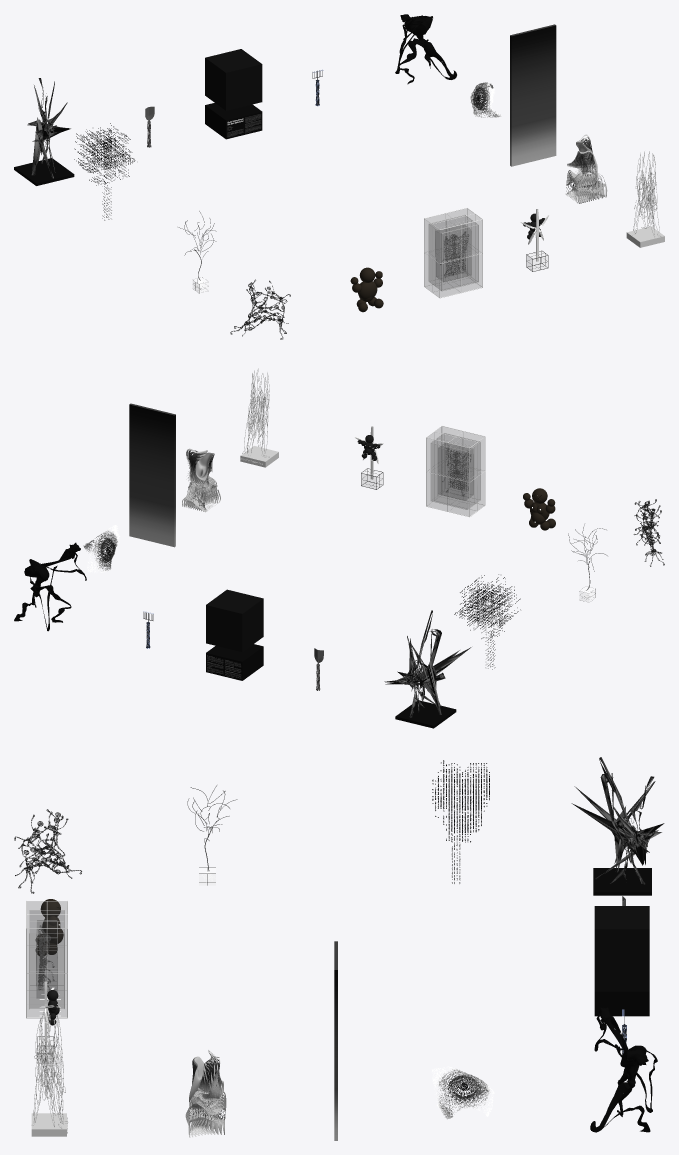
3 renders of one model, top to bottom at view 1: azimuth 30°, elevation 25°; view 2: azimuth 150°, elevation 25°; view 3: azimuth 270°, elevation 25°, orthographic. The views are drawn at different scales.
Visible parts, largest first — view 1: Mesh_4002_2, 2002-BLVKK, Mesh_2002, Mesh_0029, Mesh_4002_1, LEGEND-BLCK, Mesh_1064_1, CROOKEDASWEFUNASYU-BLCK, Mesh_1081, MYSTIC-BRED002, Mesh_2036, Mesh_1081_1 (+2 smaller); view 2: 2002-BLVKK, Mesh_4002_2, Mesh_2002, LEGEND-BLCK, Mesh_0029, Mesh_4002_1, Mesh_1064_1, CROOKEDASWEFUNASYU-BLCK, MYSTIC-BRED002, Mesh_1081, Mesh_2036, MONO2 (+2 smaller); view 3: Mesh_4002_2, LEGEND-BLCK, Mesh_2002, Mesh_0029, Mesh_4002_1, CROOKEDASWEFUNASYU-BLCK, Mesh_2036, MONO2, Mesh_1081, Mesh_1064_1, Mesh_1081_1, MYSTIC-BRED002 (+1 smaller).
Boxes of the visible parts, left/top/right/bottom form: Mesh_4002_2: left=102, top=144, right=664, bottom=339; 2002-BLVKK: left=510, top=24, right=556, bottom=166; Mesh_2002: left=424, top=208, right=482, bottom=297; Mesh_0029: left=205, top=49, right=262, bottom=110; Mesh_4002_1: left=429, top=216, right=477, bottom=289; LEGEND-BLCK: left=14, top=78, right=74, bottom=185; Mesh_1064_1: left=74, top=123, right=135, bottom=185; CROOKEDASWEFUNASYU-BLCK: left=395, top=14, right=456, bottom=84; Mesh_1081: left=565, top=134, right=607, bottom=203; MYSTIC-BRED002: left=435, top=224, right=471, bottom=282; Mesh_2036: left=205, top=103, right=262, bottom=139; Mesh_1081_1: left=565, top=141, right=605, bottom=194; 2002-BLVKK: left=129, top=403, right=175, bottom=547; Mesh_4002_2: left=240, top=368, right=664, bottom=669; Mesh_2002: left=426, top=426, right=484, bottom=515; LEGEND-BLCK: left=384, top=610, right=471, bottom=728; Mesh_0029: left=206, top=589, right=263, bottom=652; Mesh_4002_1: left=431, top=434, right=479, bottom=508; Mesh_1064_1: left=454, top=574, right=520, bottom=638; CROOKEDASWEFUNASYU-BLCK: left=14, top=542, right=86, bottom=631; MYSTIC-BRED002: left=438, top=442, right=473, bottom=500; Mesh_1081: left=182, top=448, right=220, bottom=511; Mesh_2036: left=206, top=644, right=263, bottom=680; MONO2: left=83, top=525, right=119, bottom=572; Mesh_4002_2: left=14, top=784, right=460, bottom=1136; LEGEND-BLCK: left=571, top=757, right=664, bottom=895; Mesh_2002: left=27, top=901, right=66, bottom=1017; Mesh_0029: left=594, top=906, right=649, bottom=978; Mesh_4002_1: left=30, top=911, right=63, bottom=1007; CROOKEDASWEFUNASYU-BLCK: left=590, top=1007, right=657, bottom=1132; Mesh_2036: left=594, top=979, right=649, bottom=1016; MONO2: left=432, top=1066, right=494, bottom=1119; Mesh_1081: left=185, top=1050, right=226, bottom=1137; Mesh_1064_1: left=432, top=760, right=489, bottom=842; Mesh_1081_1: left=189, top=1050, right=225, bottom=1124; MYSTIC-BRED002: left=36, top=920, right=57, bottom=998.
Bounding box in the file's own units: 41.36 × 12.05 × 41.4.
Materials: 20 (14 with a texture image).
